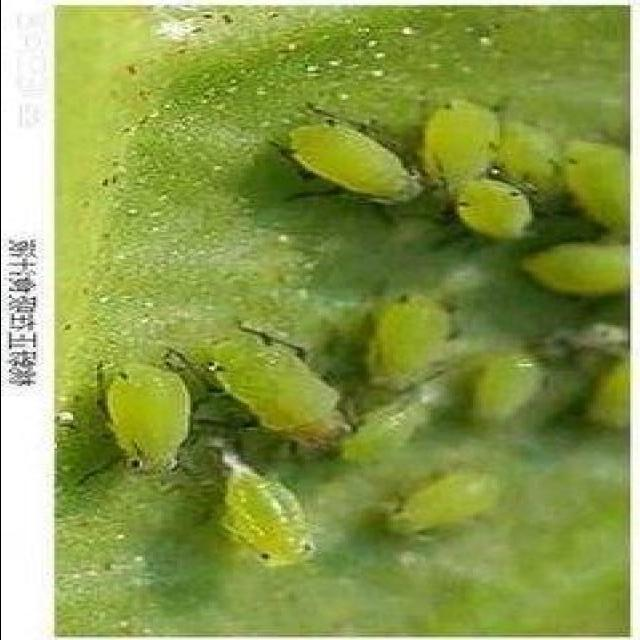aphid: (245, 94, 440, 236), (197, 313, 379, 457), (66, 328, 216, 500), (206, 460, 320, 570), (368, 463, 494, 540), (409, 90, 509, 186), (372, 284, 451, 396), (507, 238, 638, 298), (555, 131, 628, 236), (474, 344, 554, 428), (336, 402, 438, 459), (448, 183, 536, 239)
